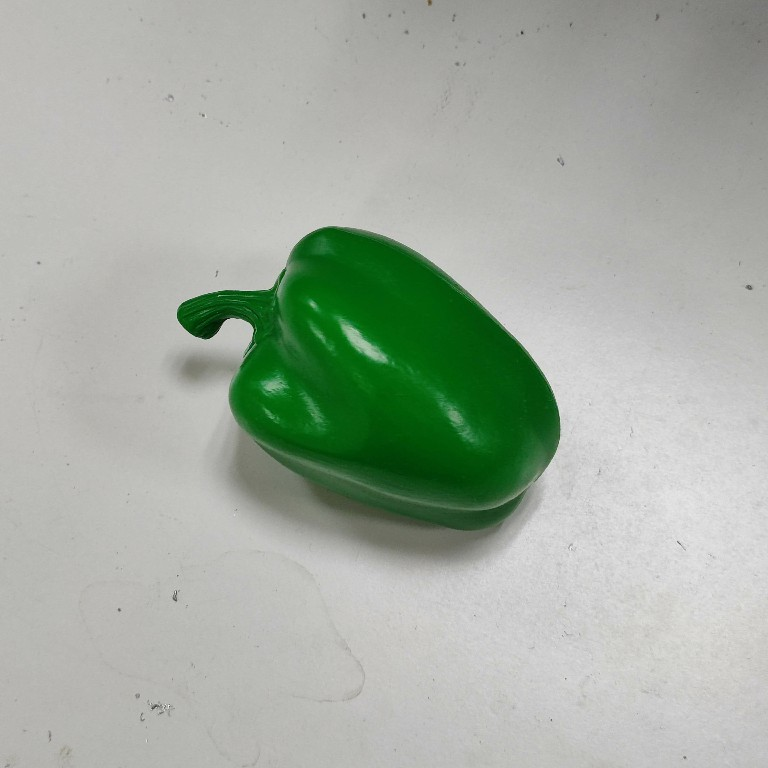fruit_pepper: (168, 220, 564, 538)
